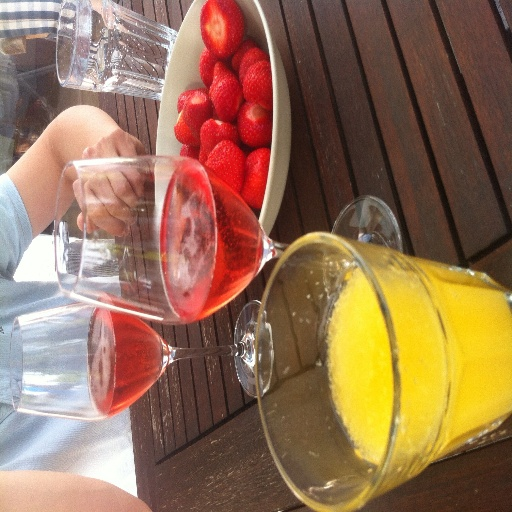hand: (60, 120, 149, 247)
